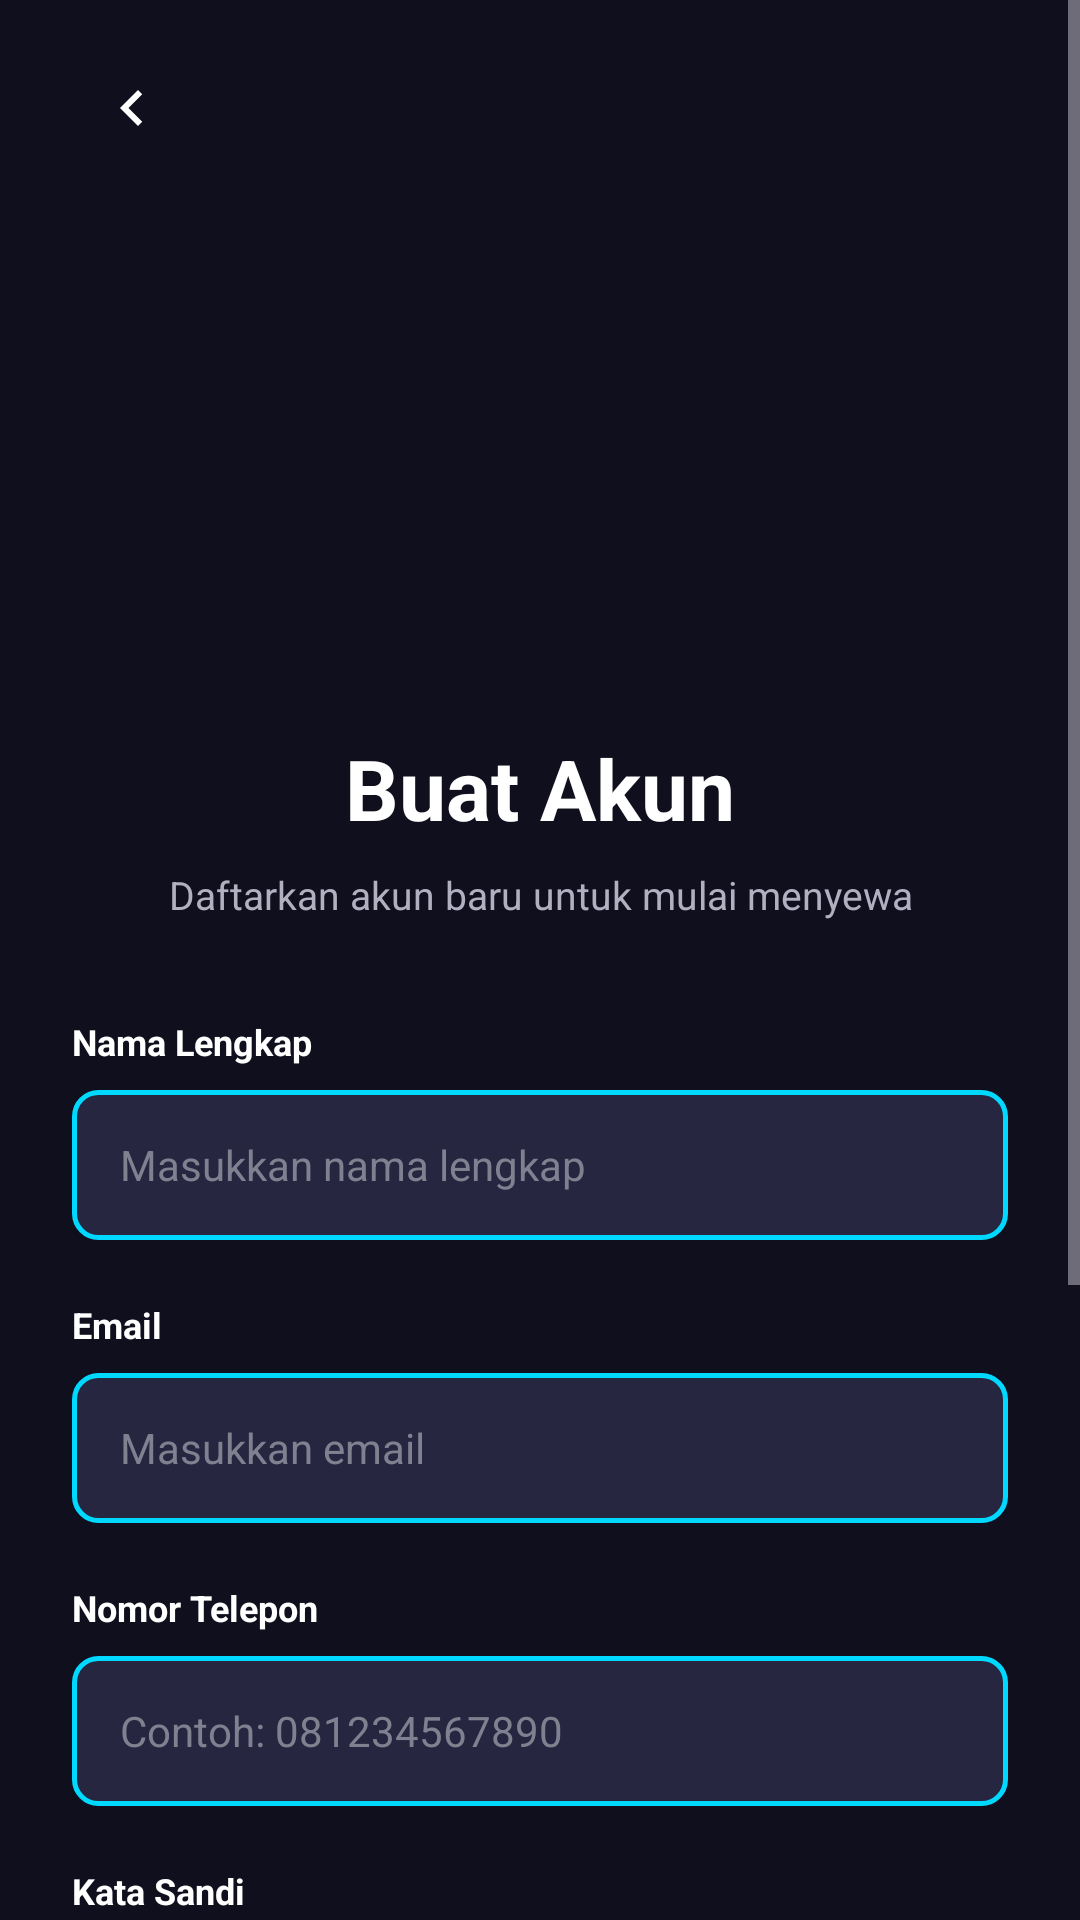

Point at icon controls on the screen. Image size 1080px x 1920px, points as (x=x, y=y).
Back: (x=131, y=108)
